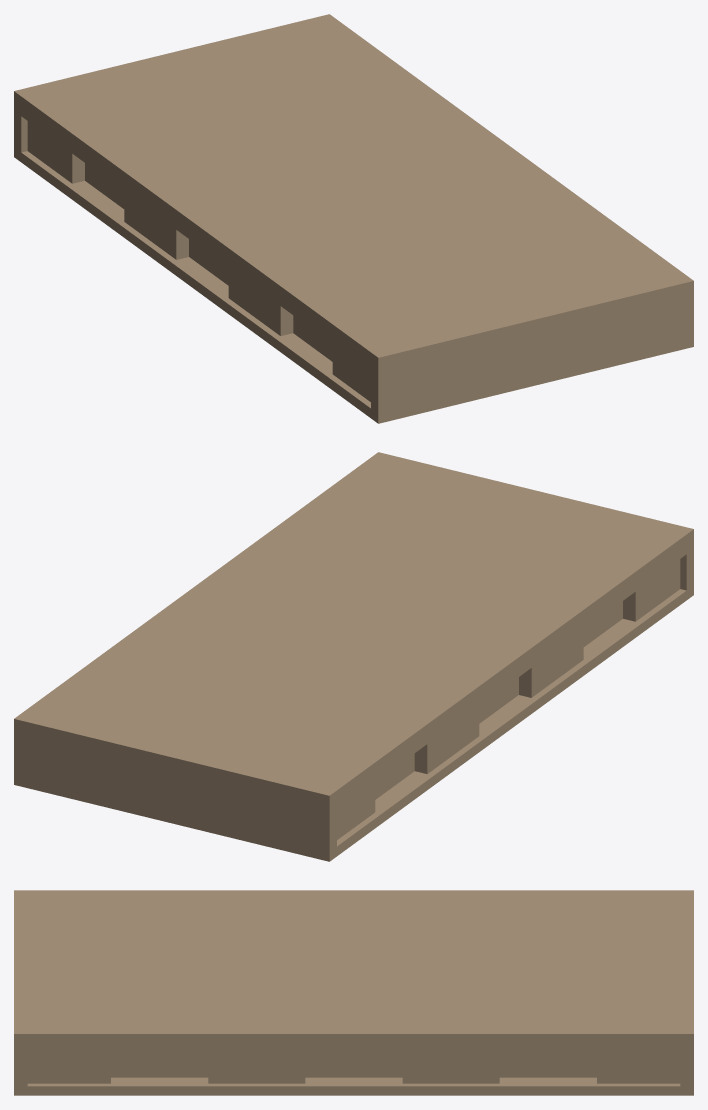
File: bridge.fbx
3 views of the same model, one above another, from view 1: azimuth 30°, elevation 25°; view 2: azimuth 150°, elevation 25°; view 3: azimuth 270°, elevation 25° (orthographic). The views are drawn at different scales.
Parts seen in each view (by area): view 1: bridge; view 2: bridge; view 3: bridge.
Boxes of the visible parts, box(x1,y1,x2,y2) form: bridge: box(14, 14, 693, 423); bridge: box(14, 452, 693, 861); bridge: box(14, 890, 693, 1095).
Size of the model in its own units: 500 by 100 by 1000.
